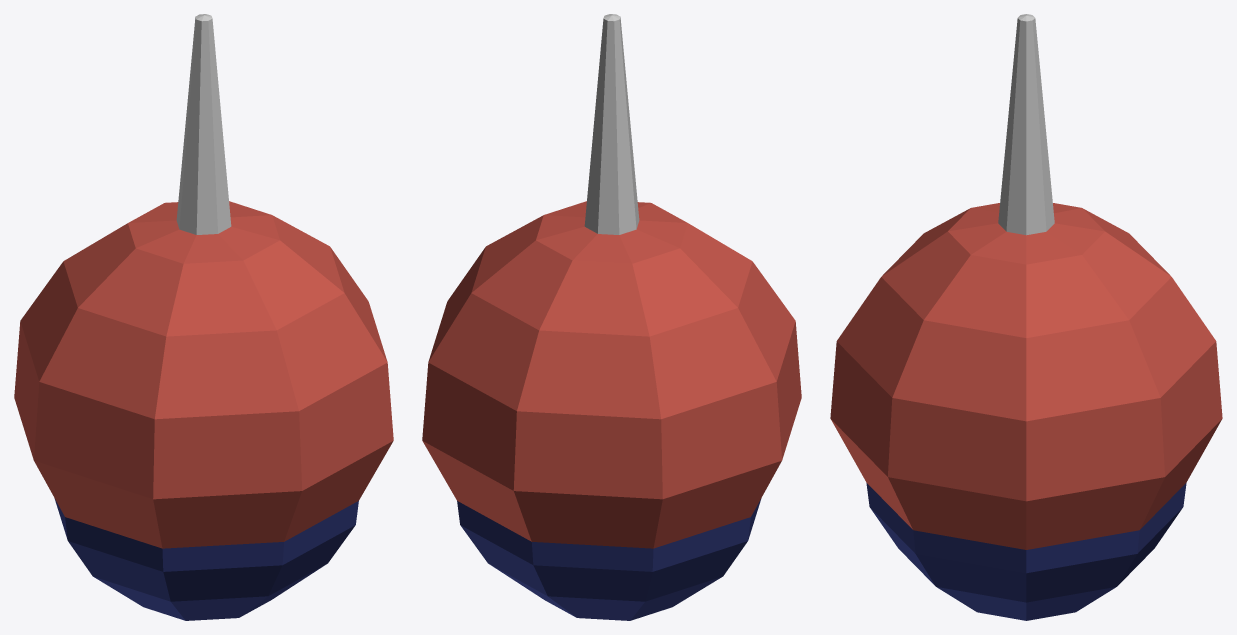
File: Buoy.fbx
The picture shows the model from 3 angles, left to right: view 1: azimuth 30°, elevation 25°; view 2: azimuth 150°, elevation 25°; view 3: azimuth 270°, elevation 25°; orthographic projection.
Parts seen in each view (by area): view 1: pSphere1; view 2: pSphere1; view 3: pSphere1.
Boxes of the visible parts, x1,y1,x2,y2 form: pSphere1: (14,14,393,620); pSphere1: (422,14,801,620); pSphere1: (830,14,1222,620).
Size of the model in its own units: 2.16 by 3.63 by 2.16.
